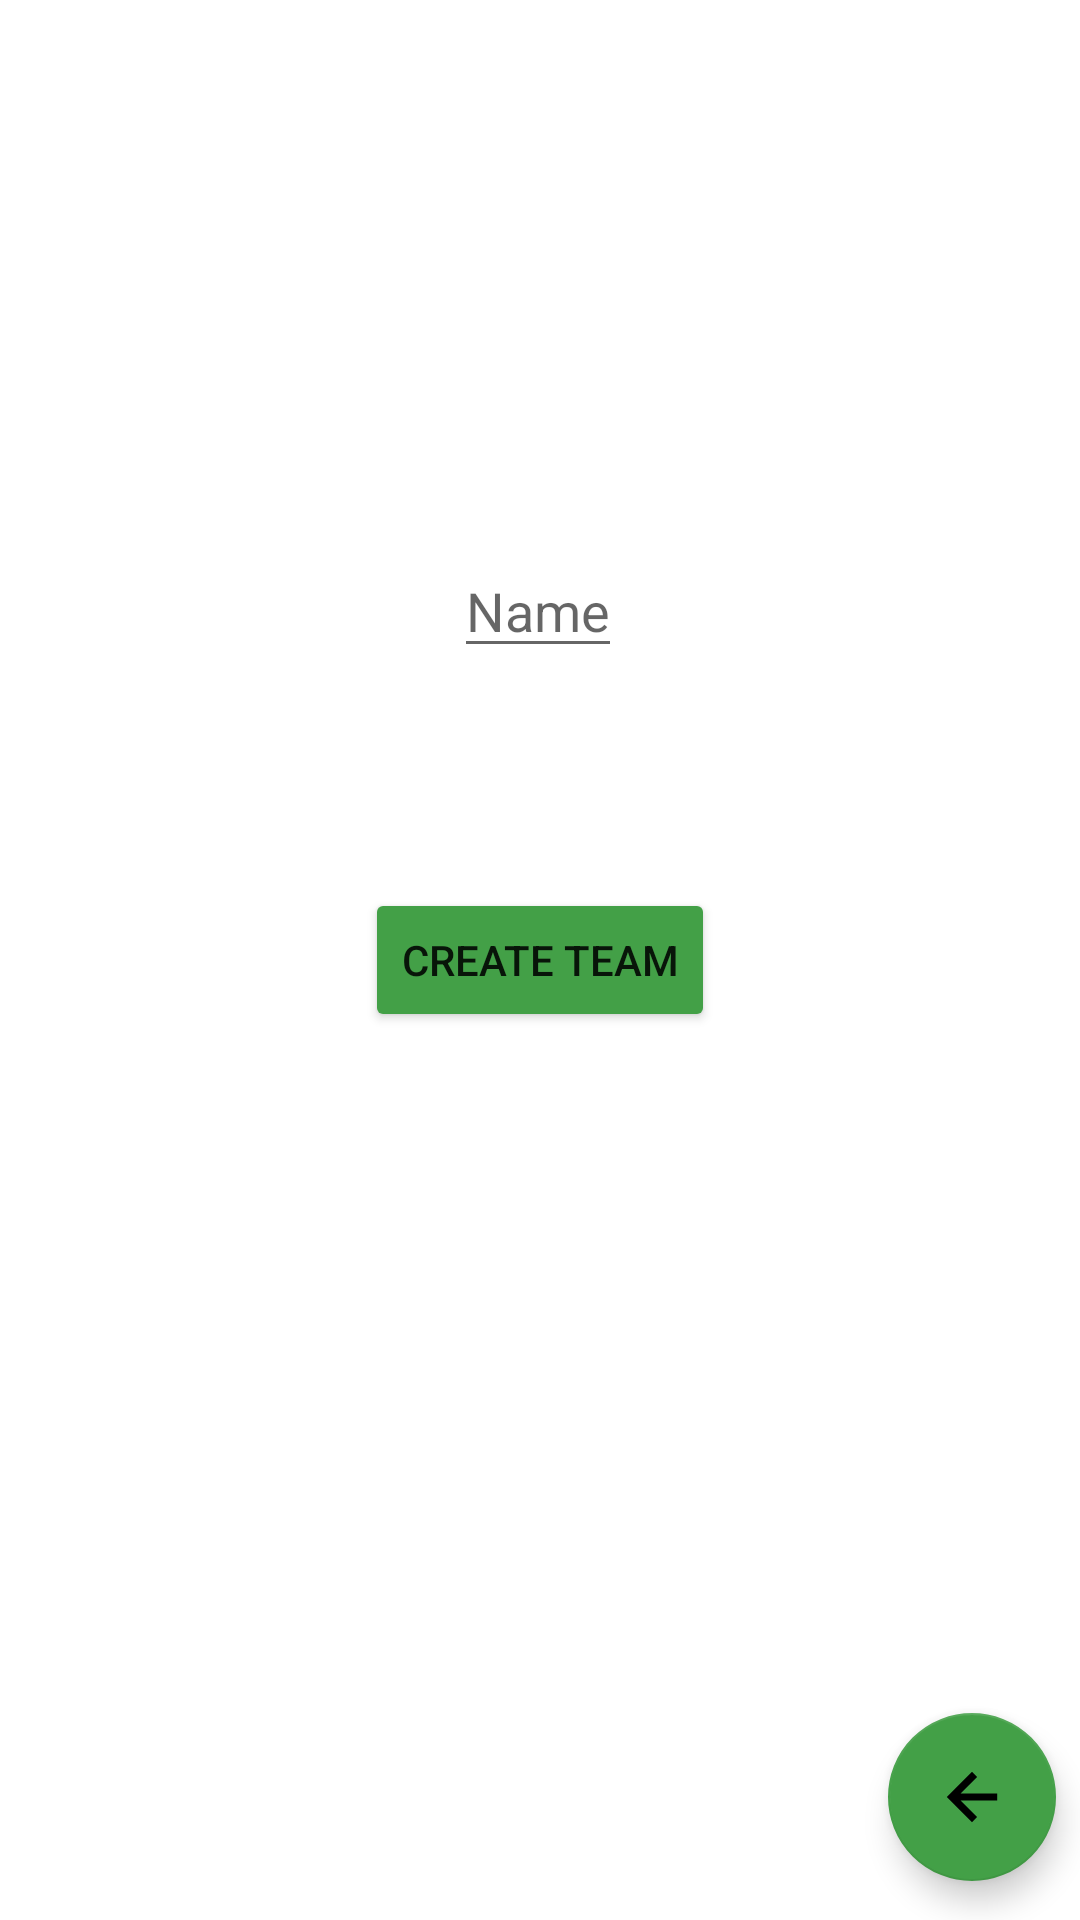

Point at icon controls on the screen. Image size 1080w x 1920h, points as (x=x, y=y).
arrow back: (x=972, y=1797)
